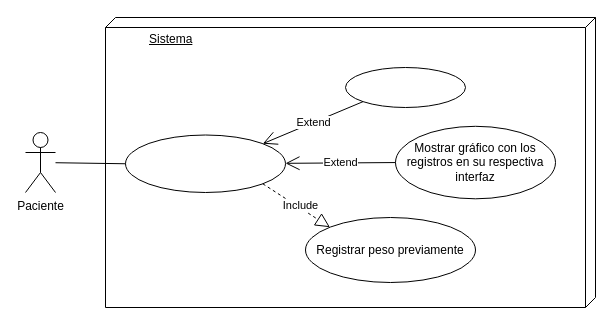
Image size: 613x325. Some labels were removed from this diagram. Each missing label, with the centre of its shape:
"Mostrar registro" belongs at (405,87).
"Visualizar registros de peso" belongs at (205,163).
